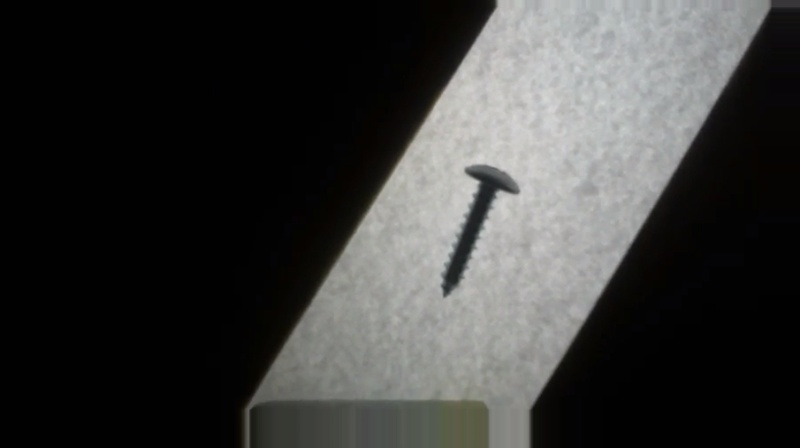S003: (439, 162, 522, 297)
